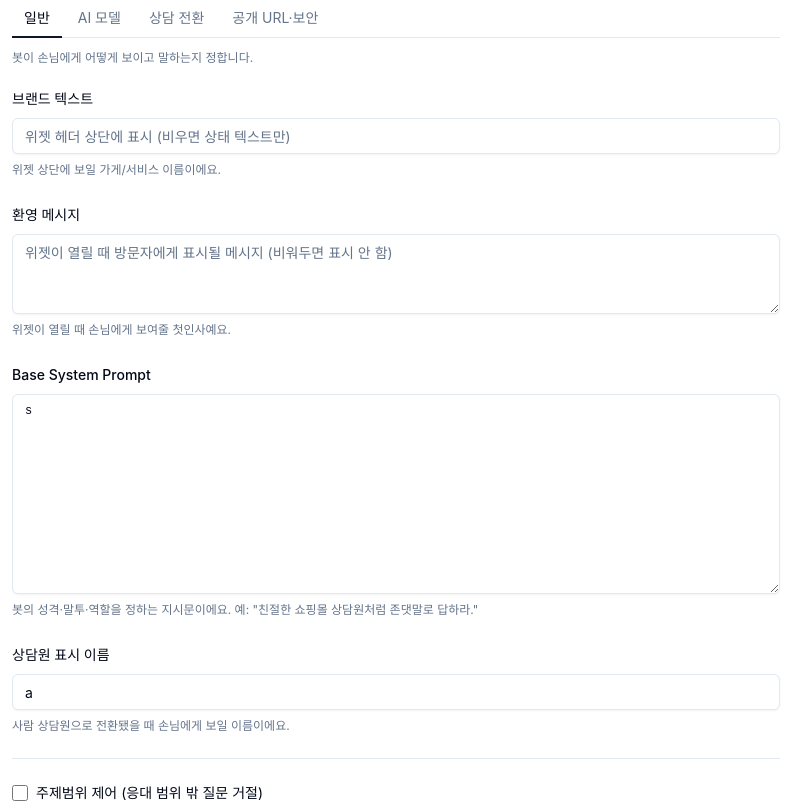
Scenario: ConfigTab — 주제범위 제어 › 토글을 켜면 응대 범위·거절 문구 입력이 나타난다
What coordinates should you click on to do the following:
click the checkbox labelled "주제범위 제어"
I would click on:
 (20, 793)
Its box is [12,785,28,801].
(page scrolled)
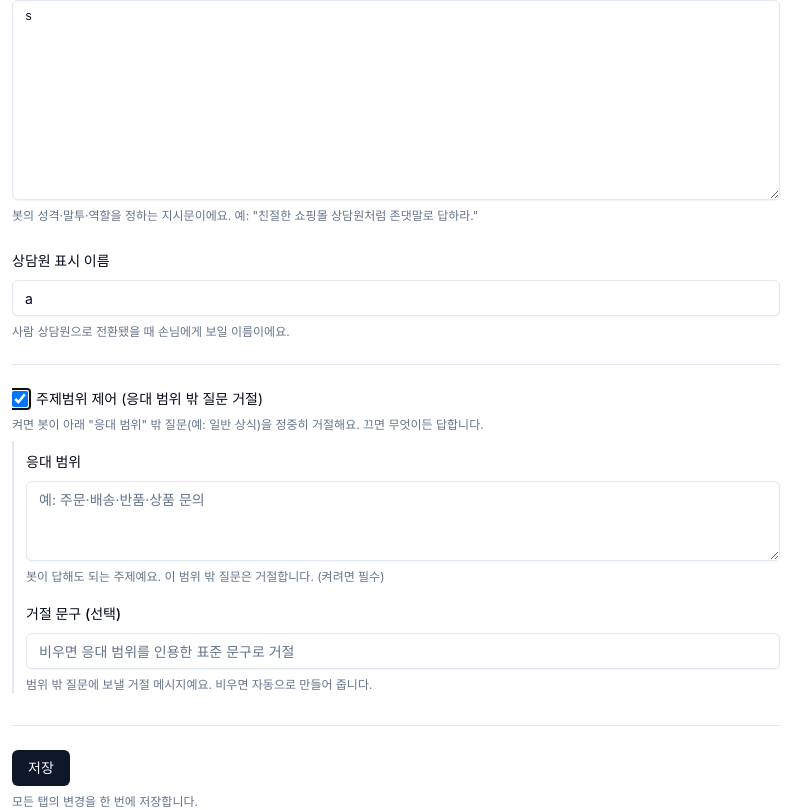
Now the text box named "응대 범위" is shown, box [26,481,780,561]
Now the field named "거절 문구" is shown, box [26,633,780,669]
